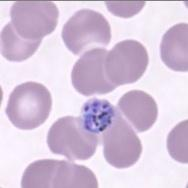Infected: (81, 97, 116, 131)
Uninfected: (70, 50, 124, 96), (6, 82, 51, 129), (62, 10, 111, 53), (48, 116, 97, 158), (106, 39, 148, 83), (102, 123, 142, 169), (10, 0, 59, 37), (117, 89, 158, 133), (0, 20, 42, 61), (22, 158, 76, 188), (160, 23, 188, 72), (54, 162, 98, 188)
